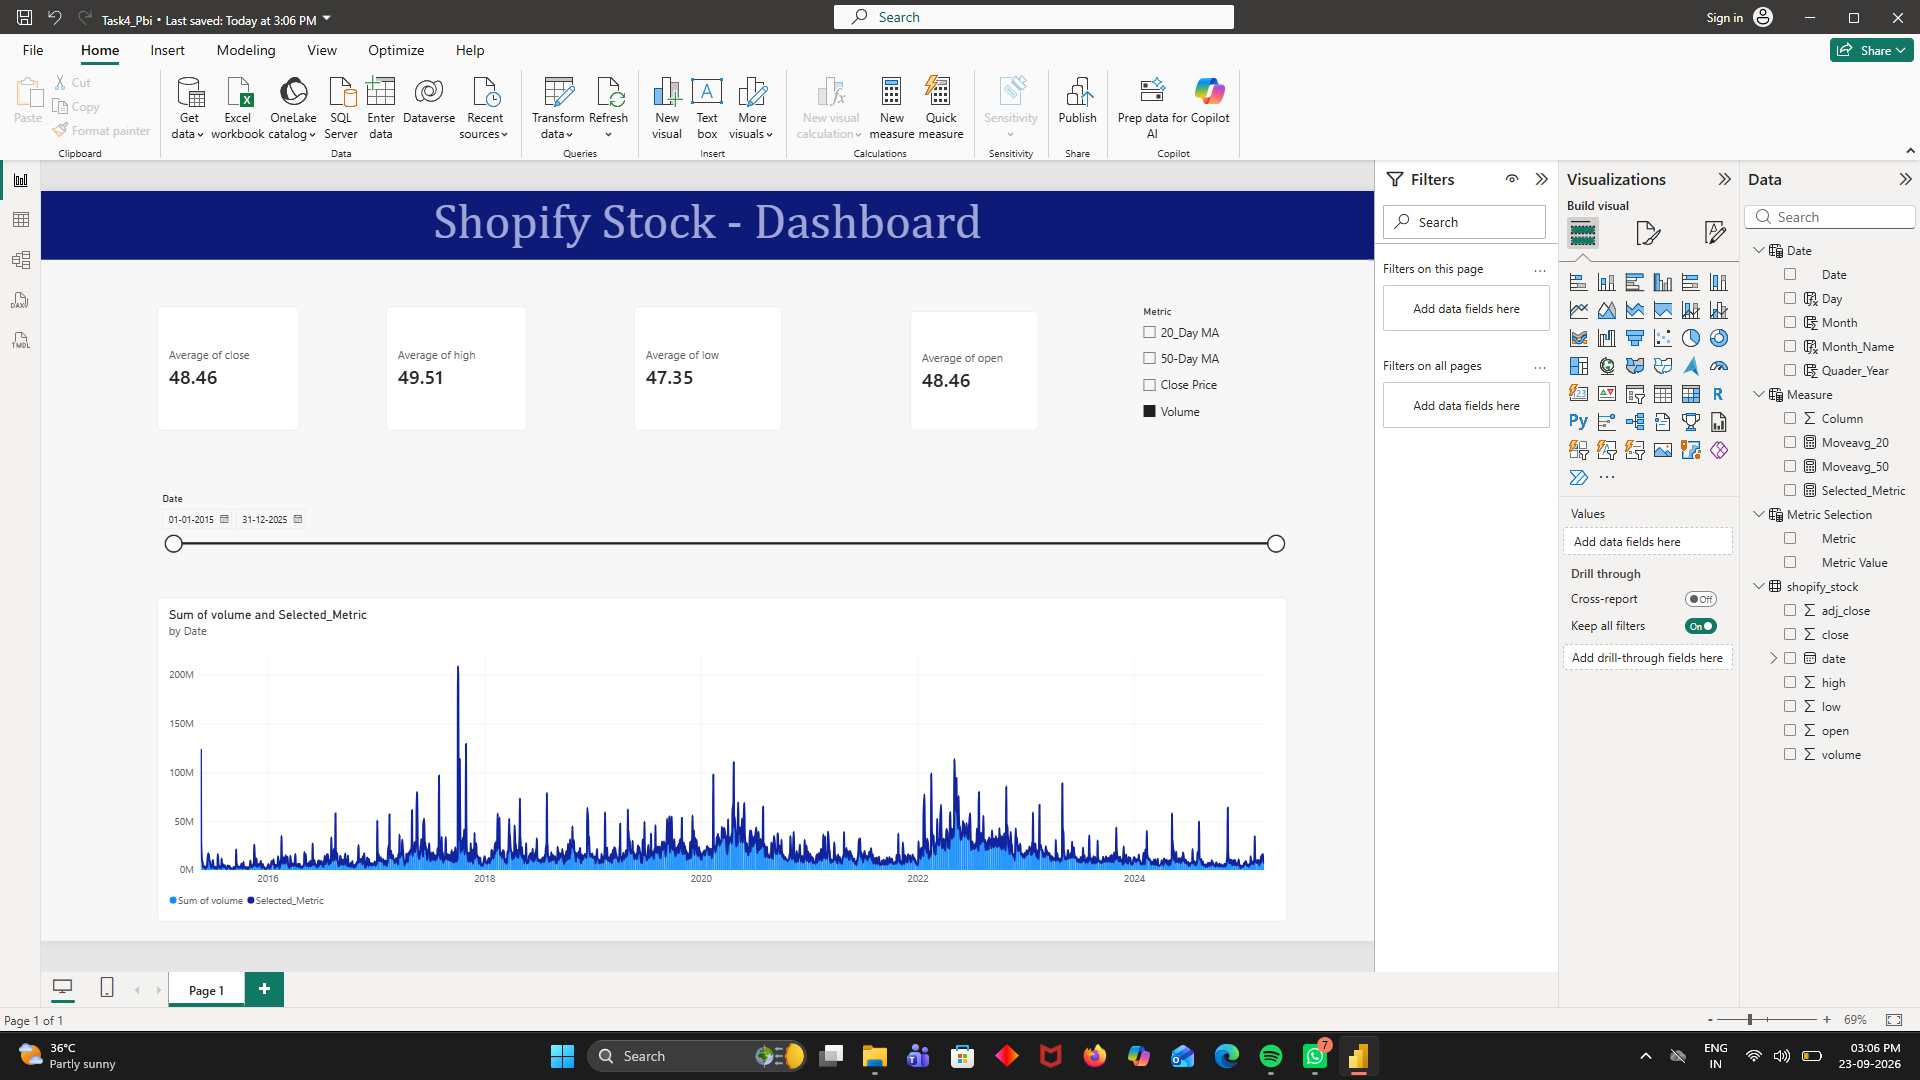

What the dashboard file says about the page in this screenshot:
{"tool":"powerbi","page":{"name":"Page 1","canvas":[1920,1080],"ordinal":0},"visuals":[{"type":"textbox","title":"Shopify Stock - Dashboard","box":[0,0,1920,100.7],"z":0},{"type":"slicer","fields":{"Values":["Metric Selection.Metric"]},"box":[1580.1,165.6,204.5,180],"z":1000},{"type":"cardVisual","fields":{"Data":["Avg(shopify_stock.close)"]},"box":[167.1,165.6,204.5,180],"z":2000},{"type":"cardVisual","fields":{"Data":["Avg(shopify_stock.high)"]},"box":[496.9,165.6,203.1,180],"z":3000},{"type":"cardVisual","fields":{"Data":["Avg(shopify_stock.low)"]},"box":[854.1,165.6,213.2,180],"z":4000},{"type":"cardVisual","fields":{"Data":["Avg(shopify_stock.open)"]},"box":[1251.7,172.8,185.8,172.8],"z":5000},{"type":"slicer","fields":{"Values":["Date.Date"]},"box":[167.1,435,1627.6,149.8],"z":6000},{"type":"lineClusteredColumnComboChart","fields":{"Category":["Date.Date"],"Y":["Sum(shopify_stock.volume)"],"Y2":["Measure.Selected_Metric"]},"box":[167.1,584.8,1627.6,468.1],"z":6001}]}

Visuals, with their boxes on the page's 1920x1080 design canvas (x1, y1, x2, y2). These are canvas units, not pixel positions in the 1920x1080 screenshot, which may show the page scaled, cropped or inside an application window:
"Shopify Stock - Dashboard" textbox: {"x1": 0, "y1": 0, "x2": 1920, "y2": 101}
slicer - Metric Selection.Metric: {"x1": 1580, "y1": 166, "x2": 1785, "y2": 346}
cardVisual - Avg(shopify_stock.close): {"x1": 167, "y1": 166, "x2": 372, "y2": 346}
cardVisual - Avg(shopify_stock.high): {"x1": 497, "y1": 166, "x2": 700, "y2": 346}
cardVisual - Avg(shopify_stock.low): {"x1": 854, "y1": 166, "x2": 1067, "y2": 346}
cardVisual - Avg(shopify_stock.open): {"x1": 1252, "y1": 173, "x2": 1438, "y2": 346}
slicer - Date.Date: {"x1": 167, "y1": 435, "x2": 1795, "y2": 585}
lineClusteredColumnComboChart - Date.Date x Sum(shopify_stock.volume): {"x1": 167, "y1": 585, "x2": 1795, "y2": 1053}
